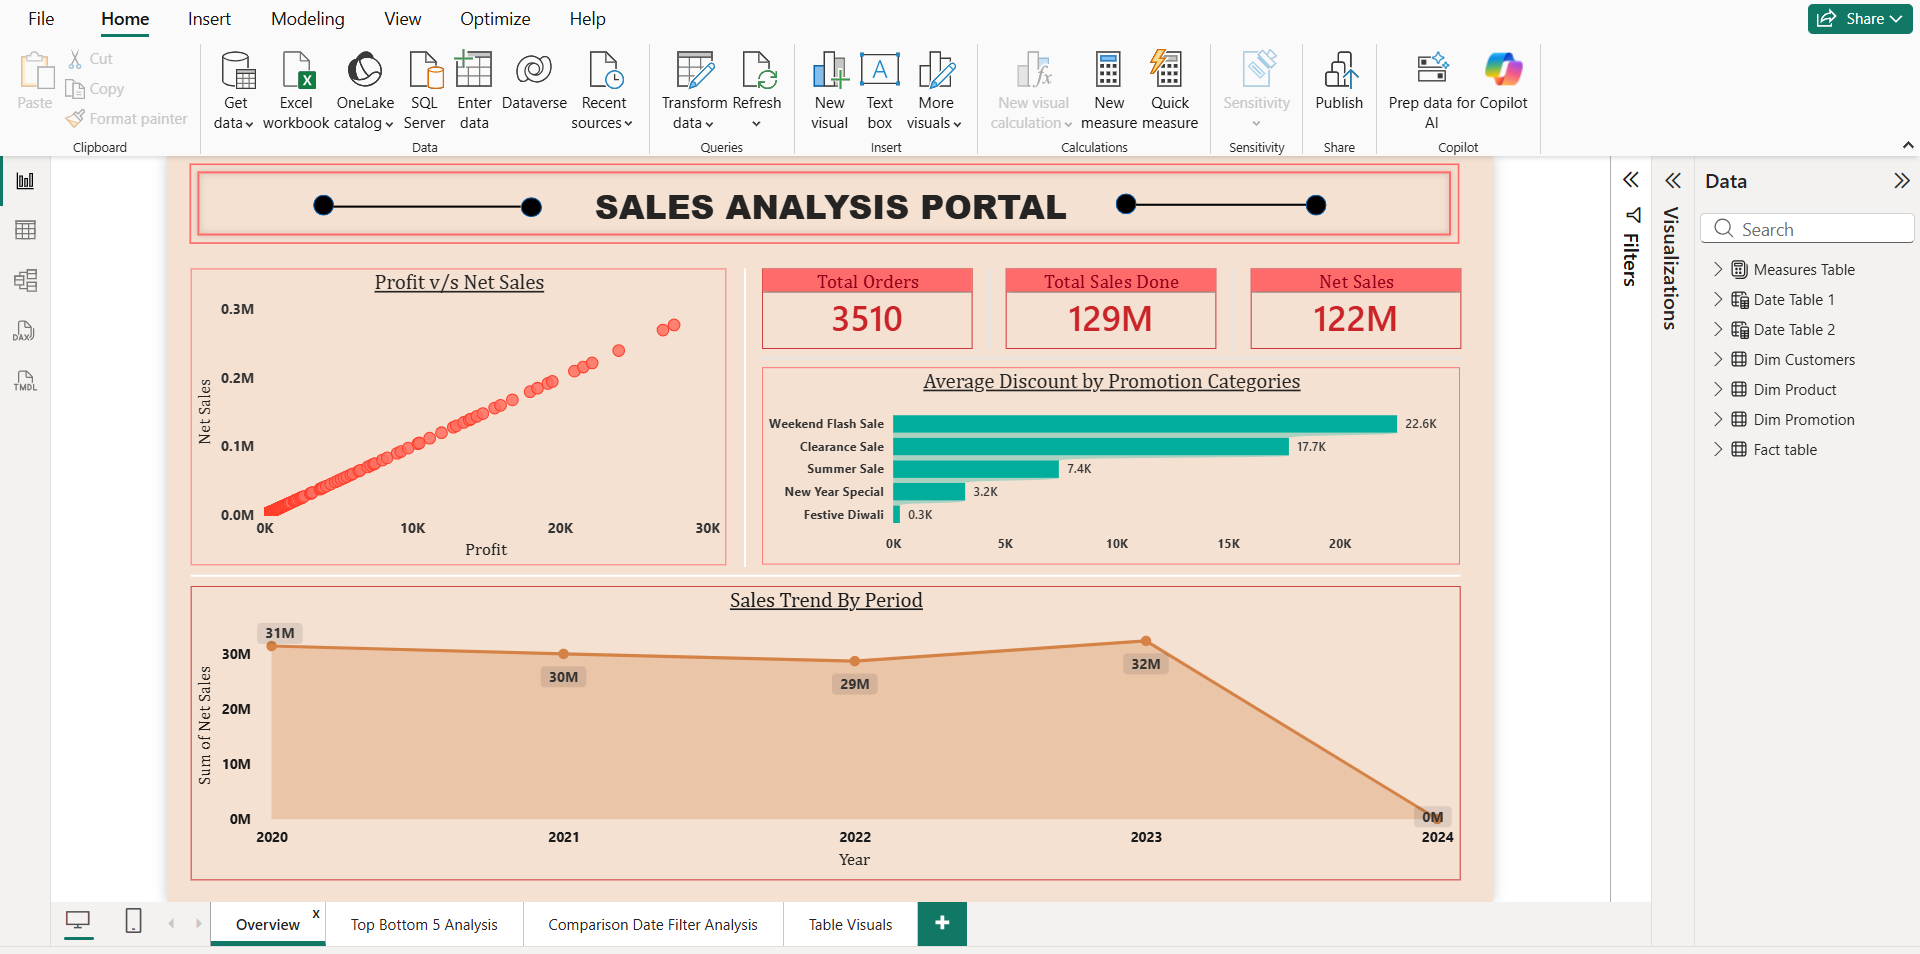

What the dashboard file says about the page in this screenshot:
{"tool":"powerbi","page":{"name":"Overview","canvas":[1280,720],"ordinal":0},"visuals":[{"type":"scatterChart","title":"Profit v/s Net Sales   ","fields":{"X":["Fact table.Profit"],"Y":["Fact table.Net Sales   "]},"box":[23,108,517,286.6],"z":0},{"type":"shape","box":[551.5,108,13,288],"z":1000},{"type":"barChart","title":"Average Discount by Promotion Categories","fields":{"Y":["Avg(Fact table.Discount)"],"Category":["Dim Promotion.Promotion Name"]},"box":[574.6,204.5,673.9,190.1],"z":2000},{"type":"card","title":"Total Orders","fields":{"Values":["Count(Fact table.Order ID)"]},"box":[574.6,108,203,77.8],"z":3000},{"type":"card","title":"Net Sales","fields":{"Values":["Sum(Fact table.Net Sales   )"]},"box":[1045.4,108,203,77.8],"z":4000},{"type":"card","title":"Total Sales Done","fields":{"Values":["Sum(Fact table.Total Sales  )"]},"box":[809.3,108,203,77.8],"z":5000},{"type":"shape","box":[23,396,1225.4,18.7],"z":6000},{"type":"shape","box":[574.6,185.8,673.9,18.7],"z":7000},{"type":"shape","box":[787.7,108,13,77.8],"z":8000},{"type":"shape","box":[1022.4,108,13,77.8],"z":9000},{"type":"lineChart","title":"Sales Trend By Period","fields":{"Y":["Sum(Fact table.Net Sales   )"],"Category":["Date Table 1.Date.Variation.Date Hierarchy.Year","Date Table 1.Date.Variation.Date Hierarchy.Quarter","Date Table 1.Date.Variation.Date Hierarchy.Month","Date Table 1.Date.Variation.Date Hierarchy.Day"]},"box":[23,414.7,1225.4,283.7],"z":10000},{"type":"shape","box":[21.3,7.1,1226,78],"z":11000},{"type":"textbox","box":[203,20.2,865.4,64.8],"z":12000},{"type":"shape","box":[883,40,234.7,14.4],"z":13000},{"type":"shape","box":[158,40,234.7,14.4],"z":14000},{"type":"shape","box":[377,37,20,20],"z":15000},{"type":"shape","box":[141,37,20,20],"z":16000},{"type":"shape","box":[1098.7,37,20,20],"z":17000},{"type":"shape","box":[883,37,20,20],"z":18000}]}

Visuals, with their boxes on the page's 1280x720 design canvas (x1, y1, x2, y2). These are canvas units, not pixel positions in the 1920x954 screenshot, which may show the page scaled, cropped or inside an application window:
"Profit v/s Net Sales   " scatterChart: locate(23, 108, 540, 395)
shape: locate(552, 108, 564, 396)
"Average Discount by Promotion Categories" barChart: locate(575, 204, 1248, 395)
"Total Orders" card: locate(575, 108, 778, 186)
"Net Sales" card: locate(1045, 108, 1248, 186)
"Total Sales Done" card: locate(809, 108, 1012, 186)
shape: locate(23, 396, 1248, 415)
shape: locate(575, 186, 1248, 204)
shape: locate(788, 108, 801, 186)
shape: locate(1022, 108, 1035, 186)
"Sales Trend By Period" lineChart: locate(23, 415, 1248, 698)
shape: locate(21, 7, 1247, 85)
textbox: locate(203, 20, 1068, 85)
shape: locate(883, 40, 1118, 54)
shape: locate(158, 40, 393, 54)
shape: locate(377, 37, 397, 57)
shape: locate(141, 37, 161, 57)
shape: locate(1099, 37, 1119, 57)
shape: locate(883, 37, 903, 57)
